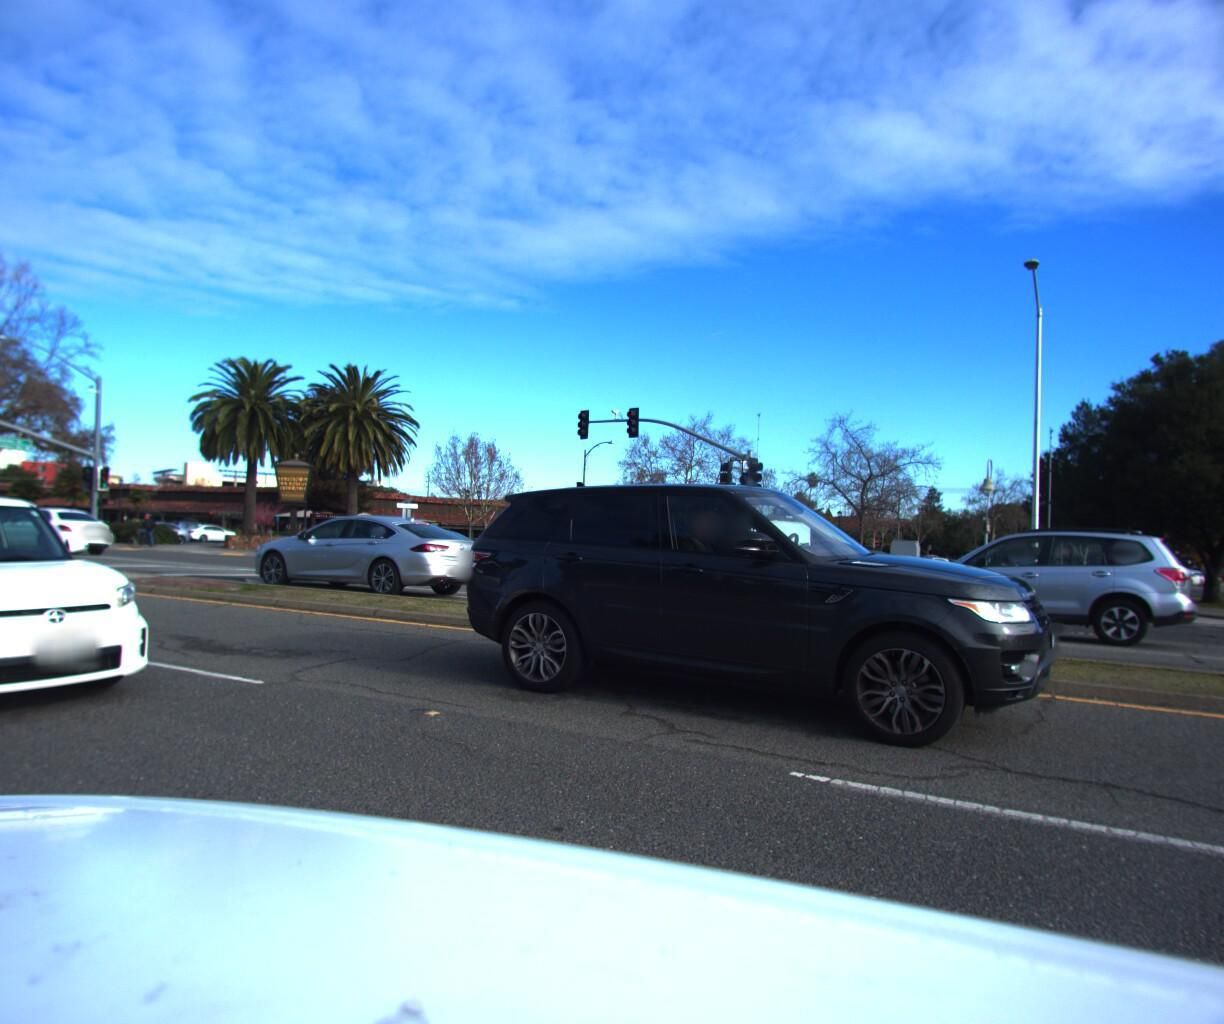car: (436, 470, 1076, 777), (0, 477, 201, 761), (904, 519, 1223, 645), (234, 505, 488, 604), (696, 536, 895, 603), (331, 514, 503, 577), (0, 500, 116, 552)
truck: (683, 502, 823, 574)
